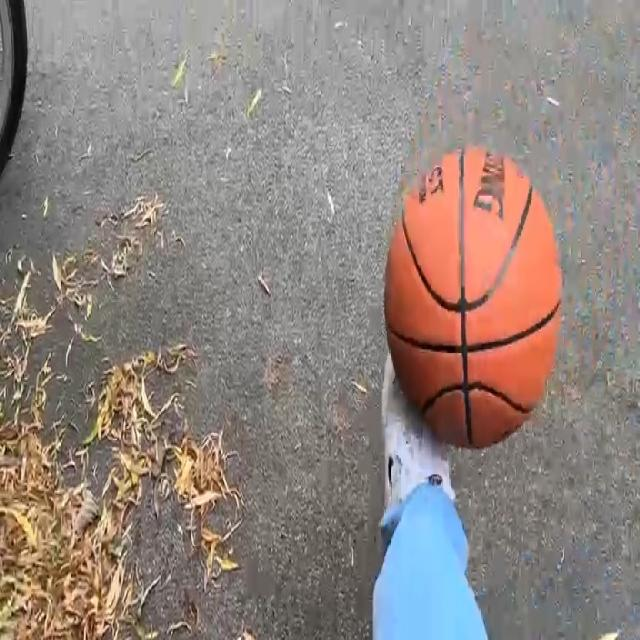Basketball: (384, 146, 561, 447)
